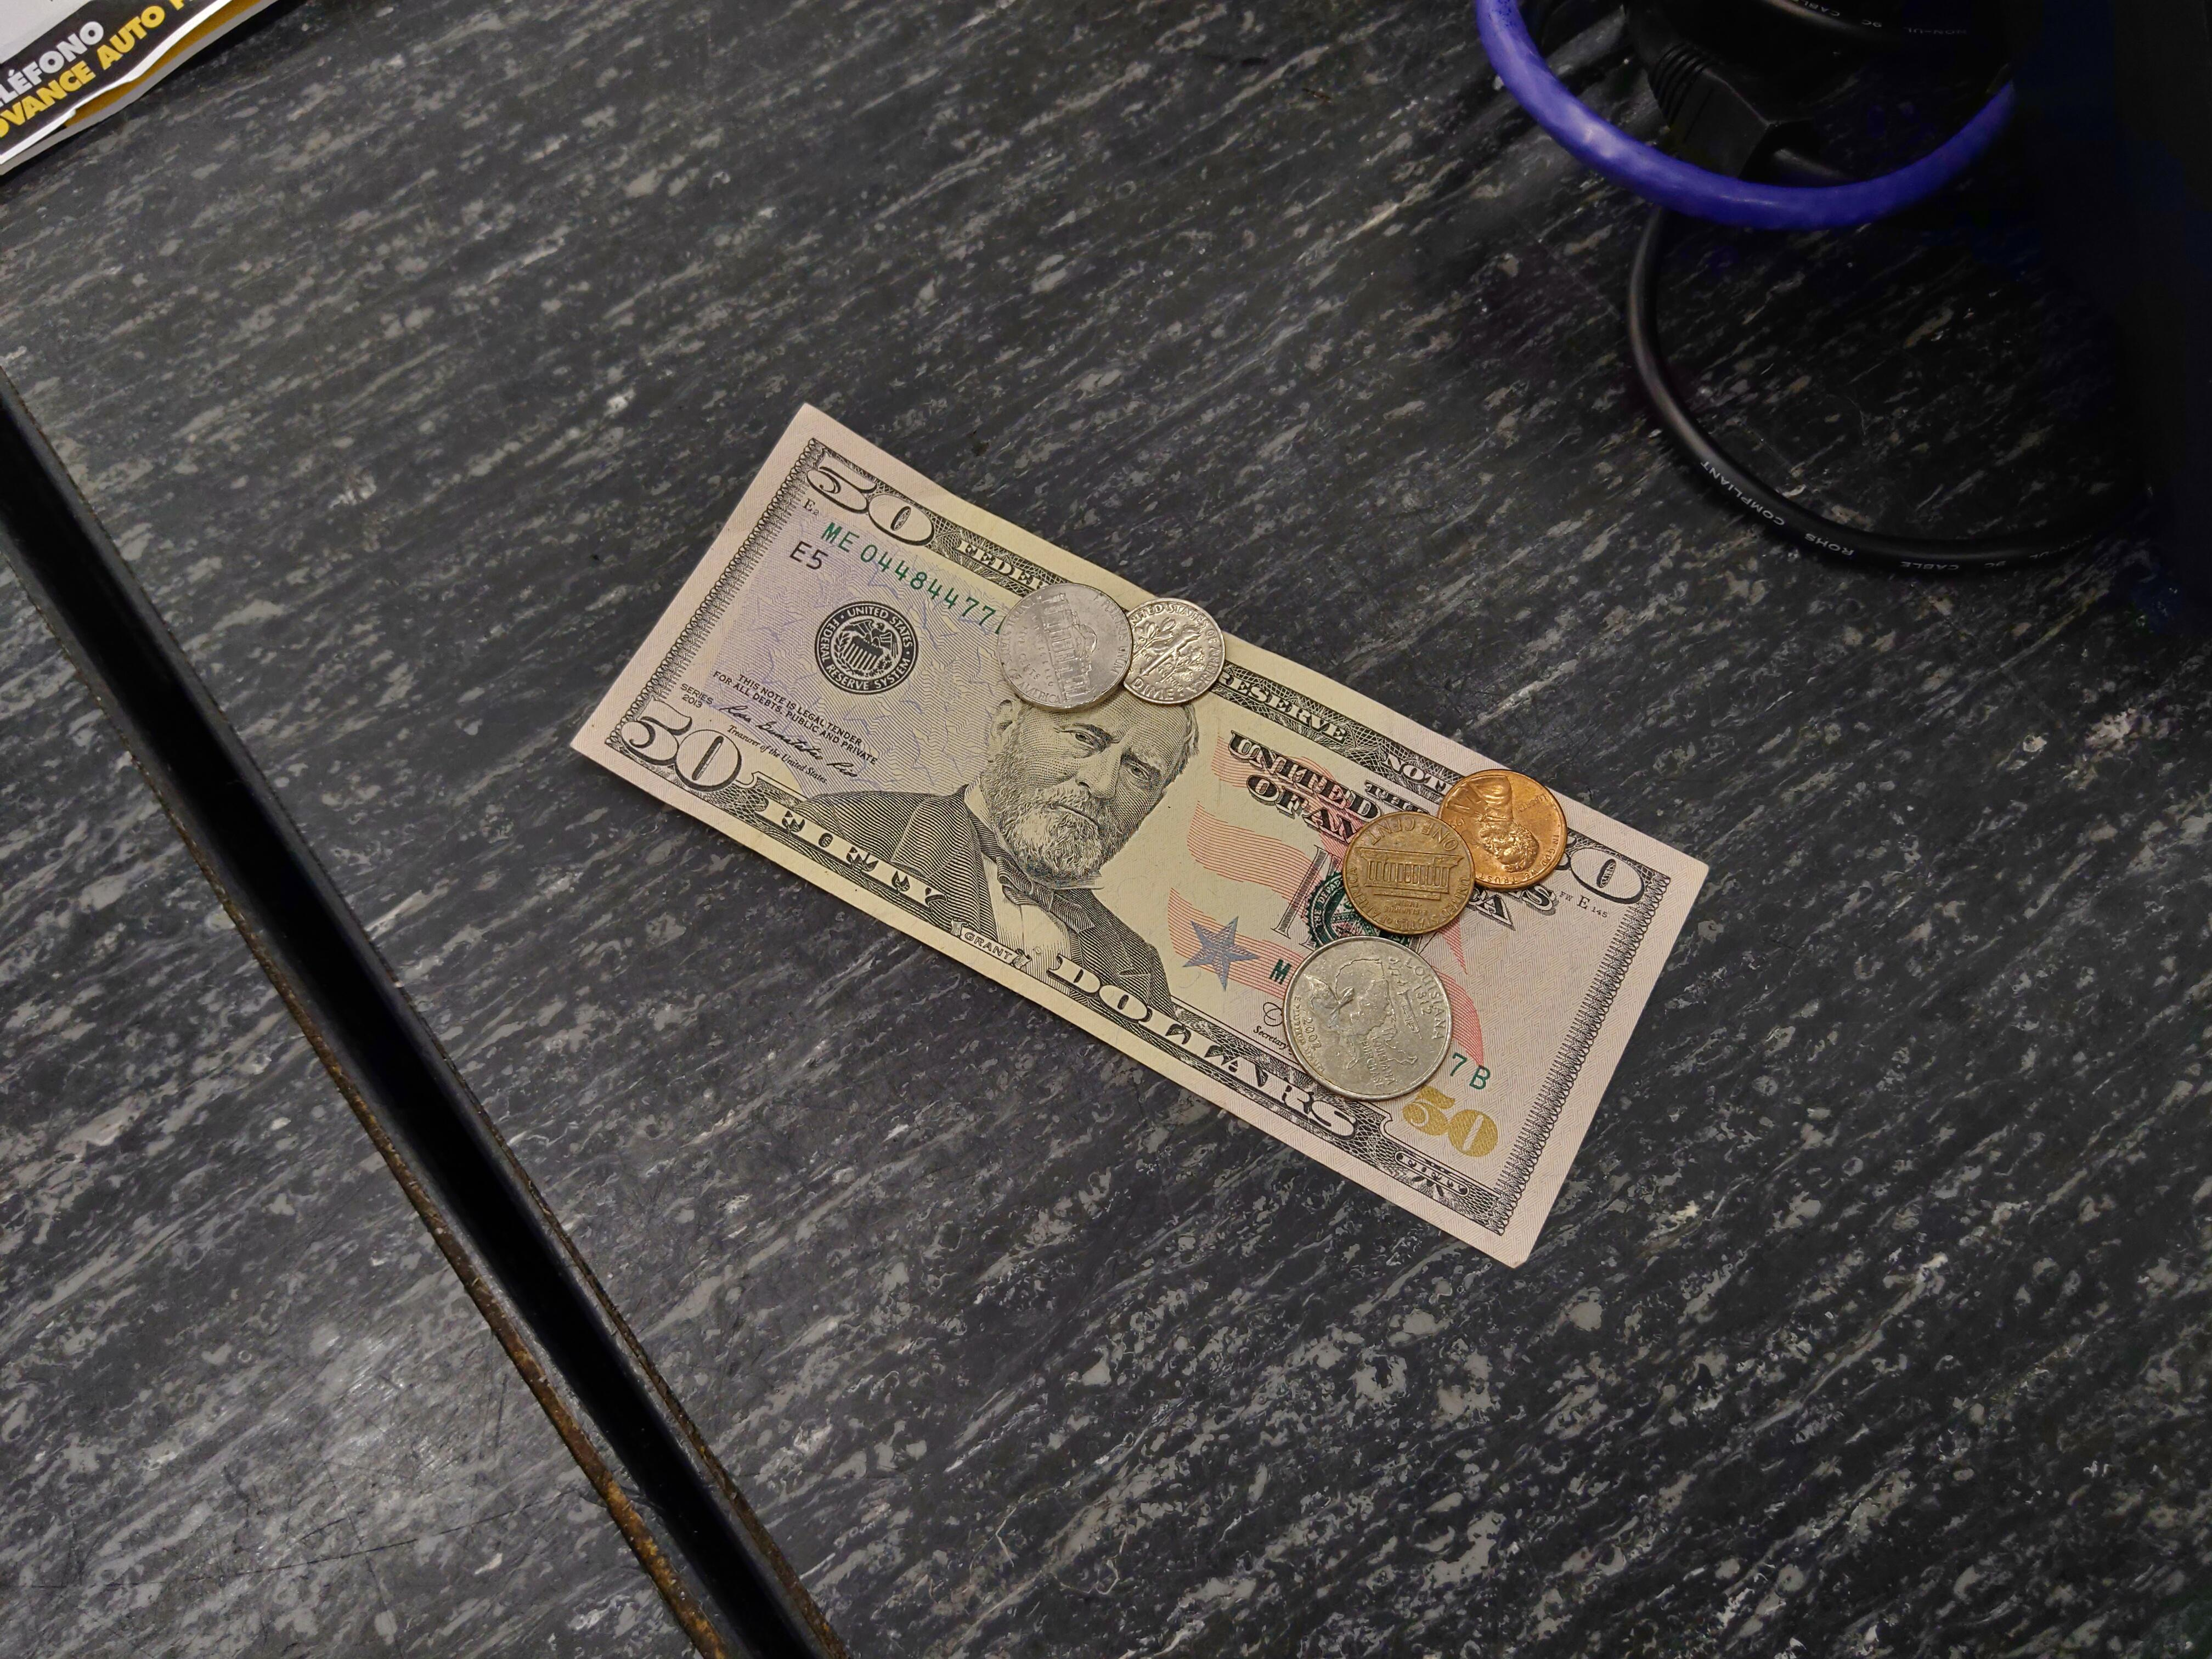Dime: (1123, 592, 1226, 706)
FiftyBill: (566, 396, 1710, 1270)
Nickel: (993, 580, 1132, 714)
Penny: (1343, 812, 1477, 934), (1437, 769, 1569, 890)
Quarter: (1280, 934, 1458, 1107)
